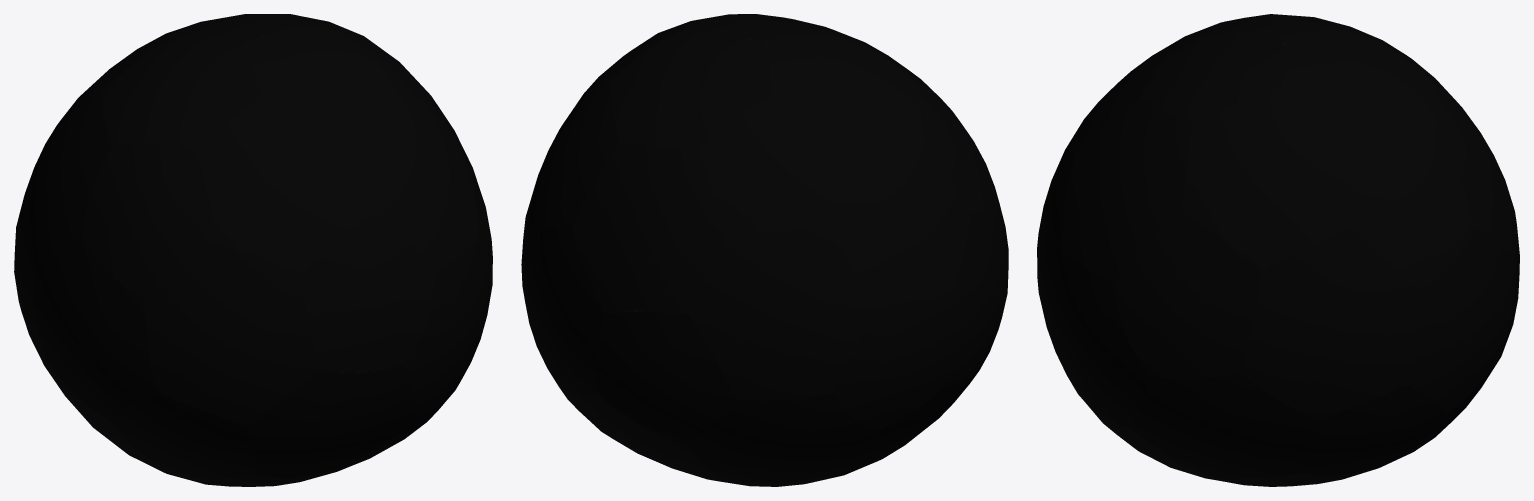
Rendered from MetalBall.fbx.
3 views of the same model, side by side, from view 1: azimuth 30°, elevation 25°; view 2: azimuth 150°, elevation 25°; view 3: azimuth 270°, elevation 25° (orthographic).
Visible parts, largest first — view 1: node_id30; view 2: node_id30; view 3: node_id30.
Boxes of the visible parts, x1=… form: node_id30: x1=14, y1=14, x2=492, y2=486; node_id30: x1=521, y1=14, x2=1008, y2=486; node_id30: x1=1037, y1=14, x2=1519, y2=486.
Bounding box in the file's own units: 0.512 × 0.4971 × 0.514.
1 material, 1 textured.
